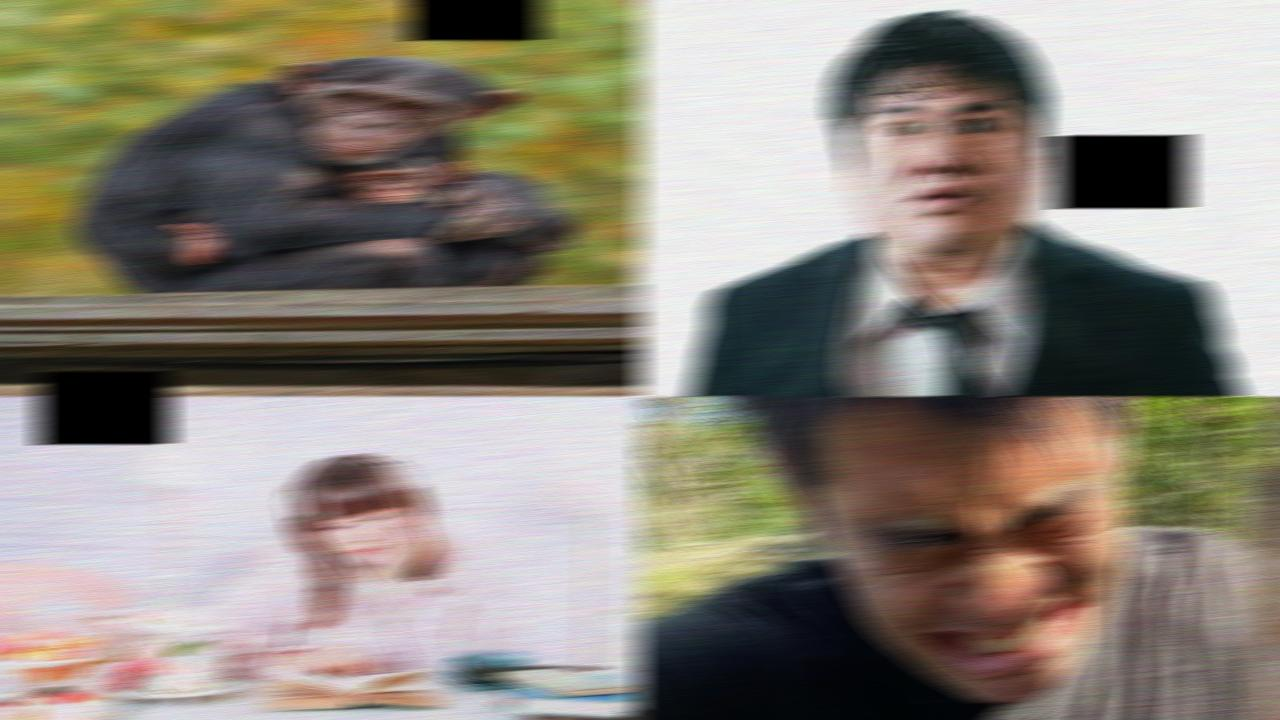chimpanzee: (72, 53, 572, 284), (334, 160, 564, 256)
human: (688, 10, 1248, 396), (635, 396, 1273, 720), (188, 452, 531, 677)
